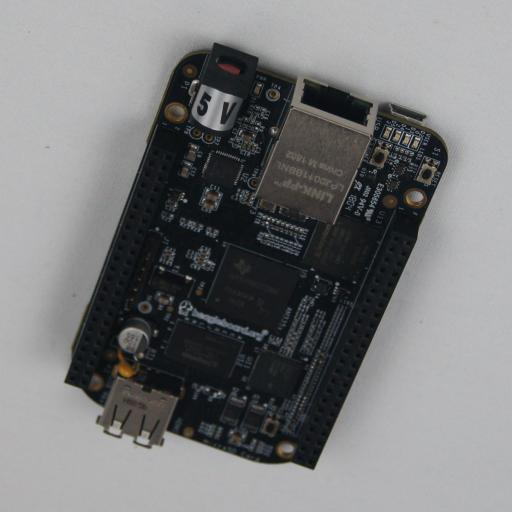Beaglebone Black: (64, 42, 448, 470)
